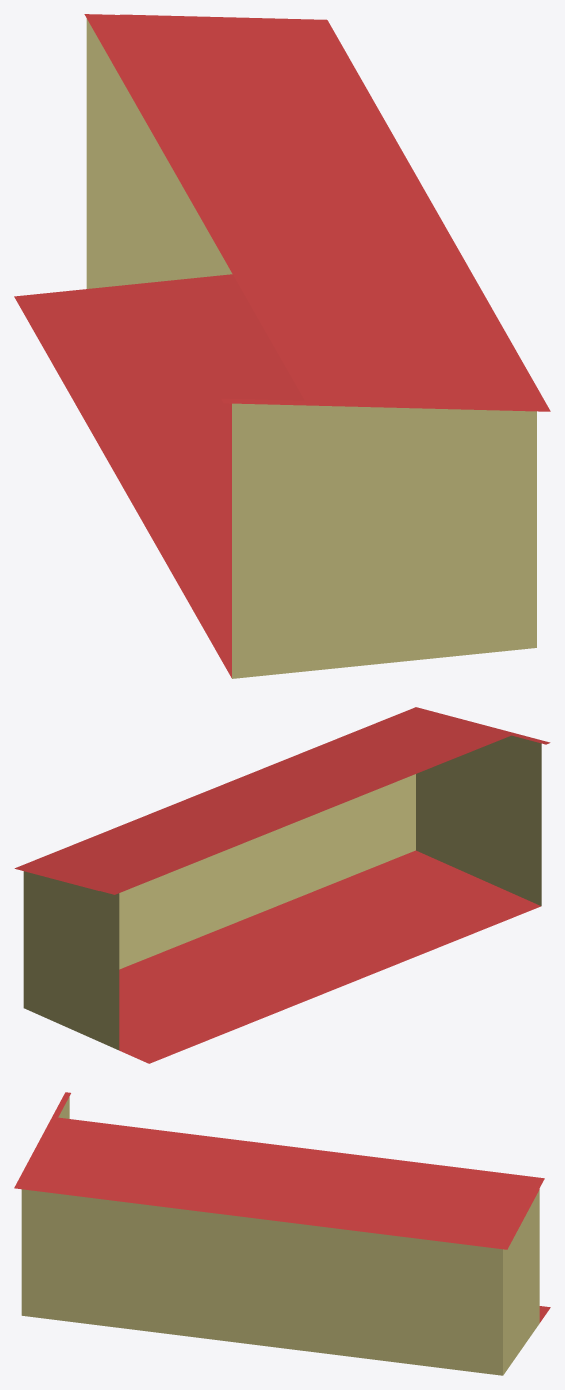
The picture shows the model from 3 angles, top to bottom: view 1: azimuth 30°, elevation 25°; view 2: azimuth 150°, elevation 25°; view 3: azimuth 270°, elevation 25°; orthographic projection. The views are drawn at different scales.
Size of the model in its own units: 12.82 by 21.53 by 6.71.
